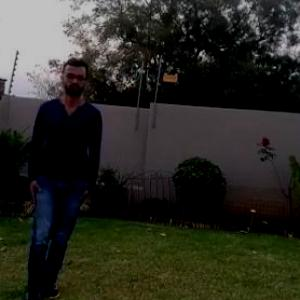follow: (28, 57, 104, 297)
